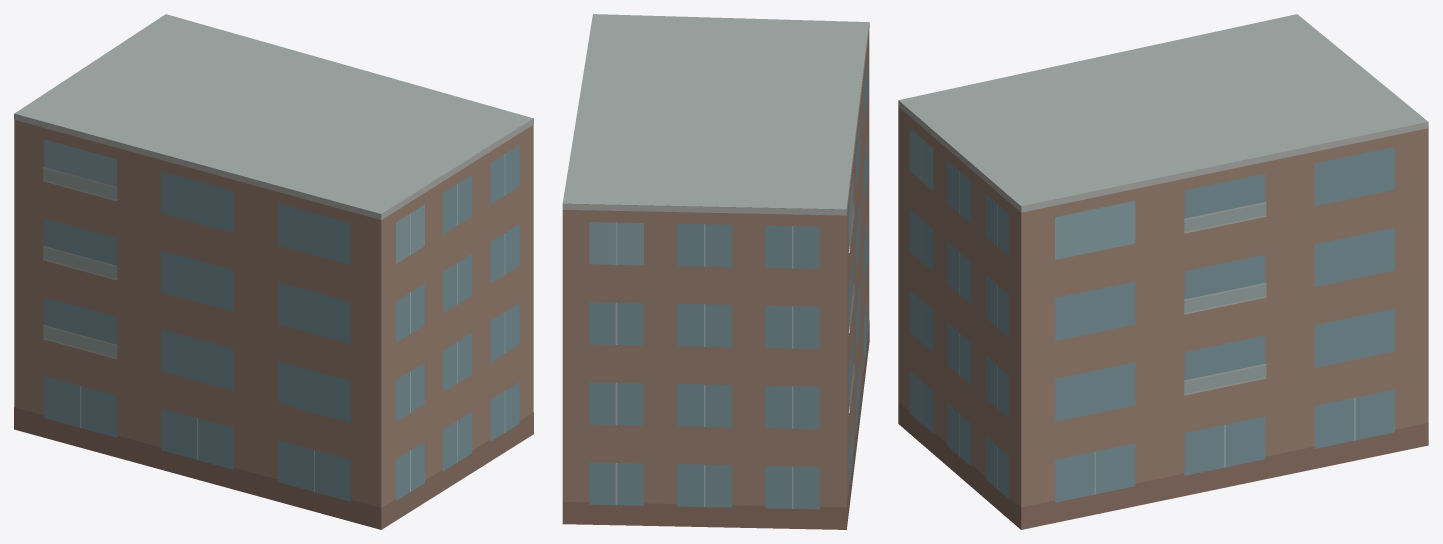
The model's file is survey-upis-32828644.glb.
3 views of the same model, side by side, from view 1: azimuth 30°, elevation 25°; view 2: azimuth 150°, elevation 25°; view 3: azimuth 270°, elevation 25° (orthographic). The views are drawn at different scales.
Parts seen in each view (by area): view 1: survey-upis-32828644.tmp; view 2: survey-upis-32828644.tmp; view 3: survey-upis-32828644.tmp.
Boxes of the visible parts, <box> form: survey-upis-32828644.tmp: <box>14,14,533,529</box>; survey-upis-32828644.tmp: <box>562,14,869,529</box>; survey-upis-32828644.tmp: <box>898,14,1428,529</box>.
Bounding box in the file's own units: 16.07 × 12.6 × 18.73.
